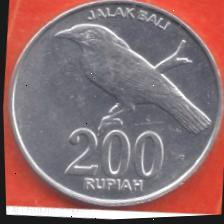coin_200_e2003: (9, 1, 224, 209)
